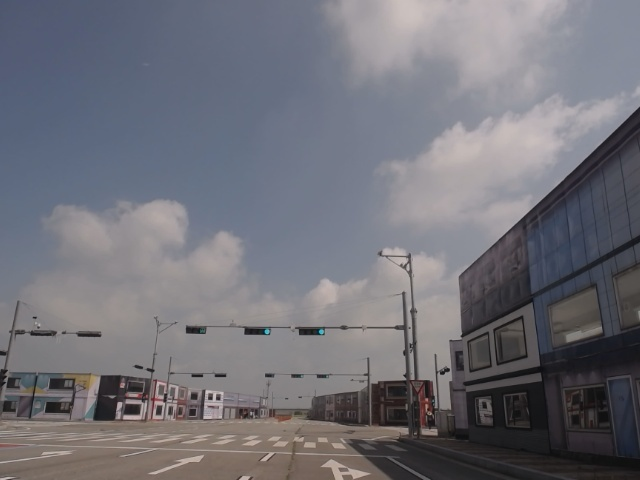straight_green_4: (244, 326, 271, 337), (298, 328, 326, 337)
